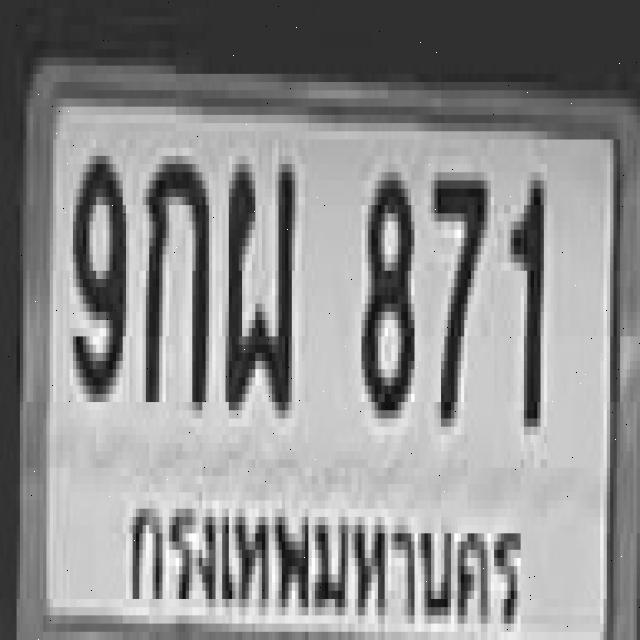1: (508, 172, 540, 418)
10GorGai: (142, 148, 205, 402)
37PhorPhueng: (222, 152, 292, 406)
7: (431, 164, 484, 418)
8: (358, 160, 411, 406)
9: (70, 143, 122, 390)
Bangkok: (124, 483, 534, 640)
